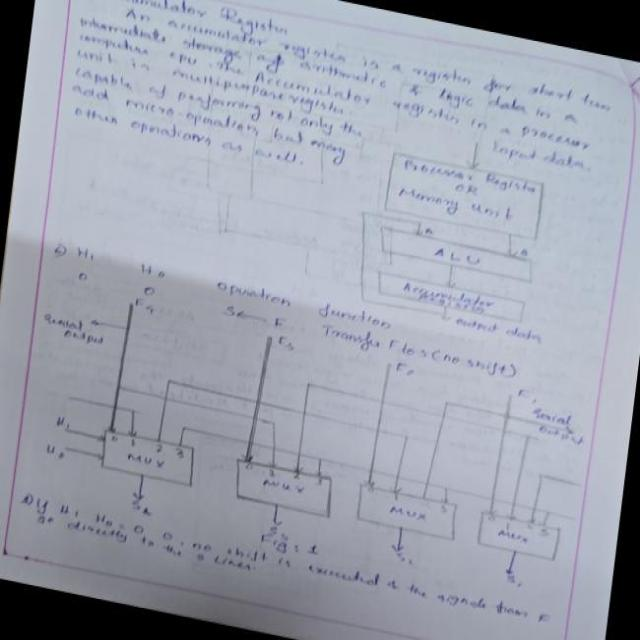Figure Detection - v3 Dataset Version2: (12, 264, 602, 603), (334, 101, 596, 359)
